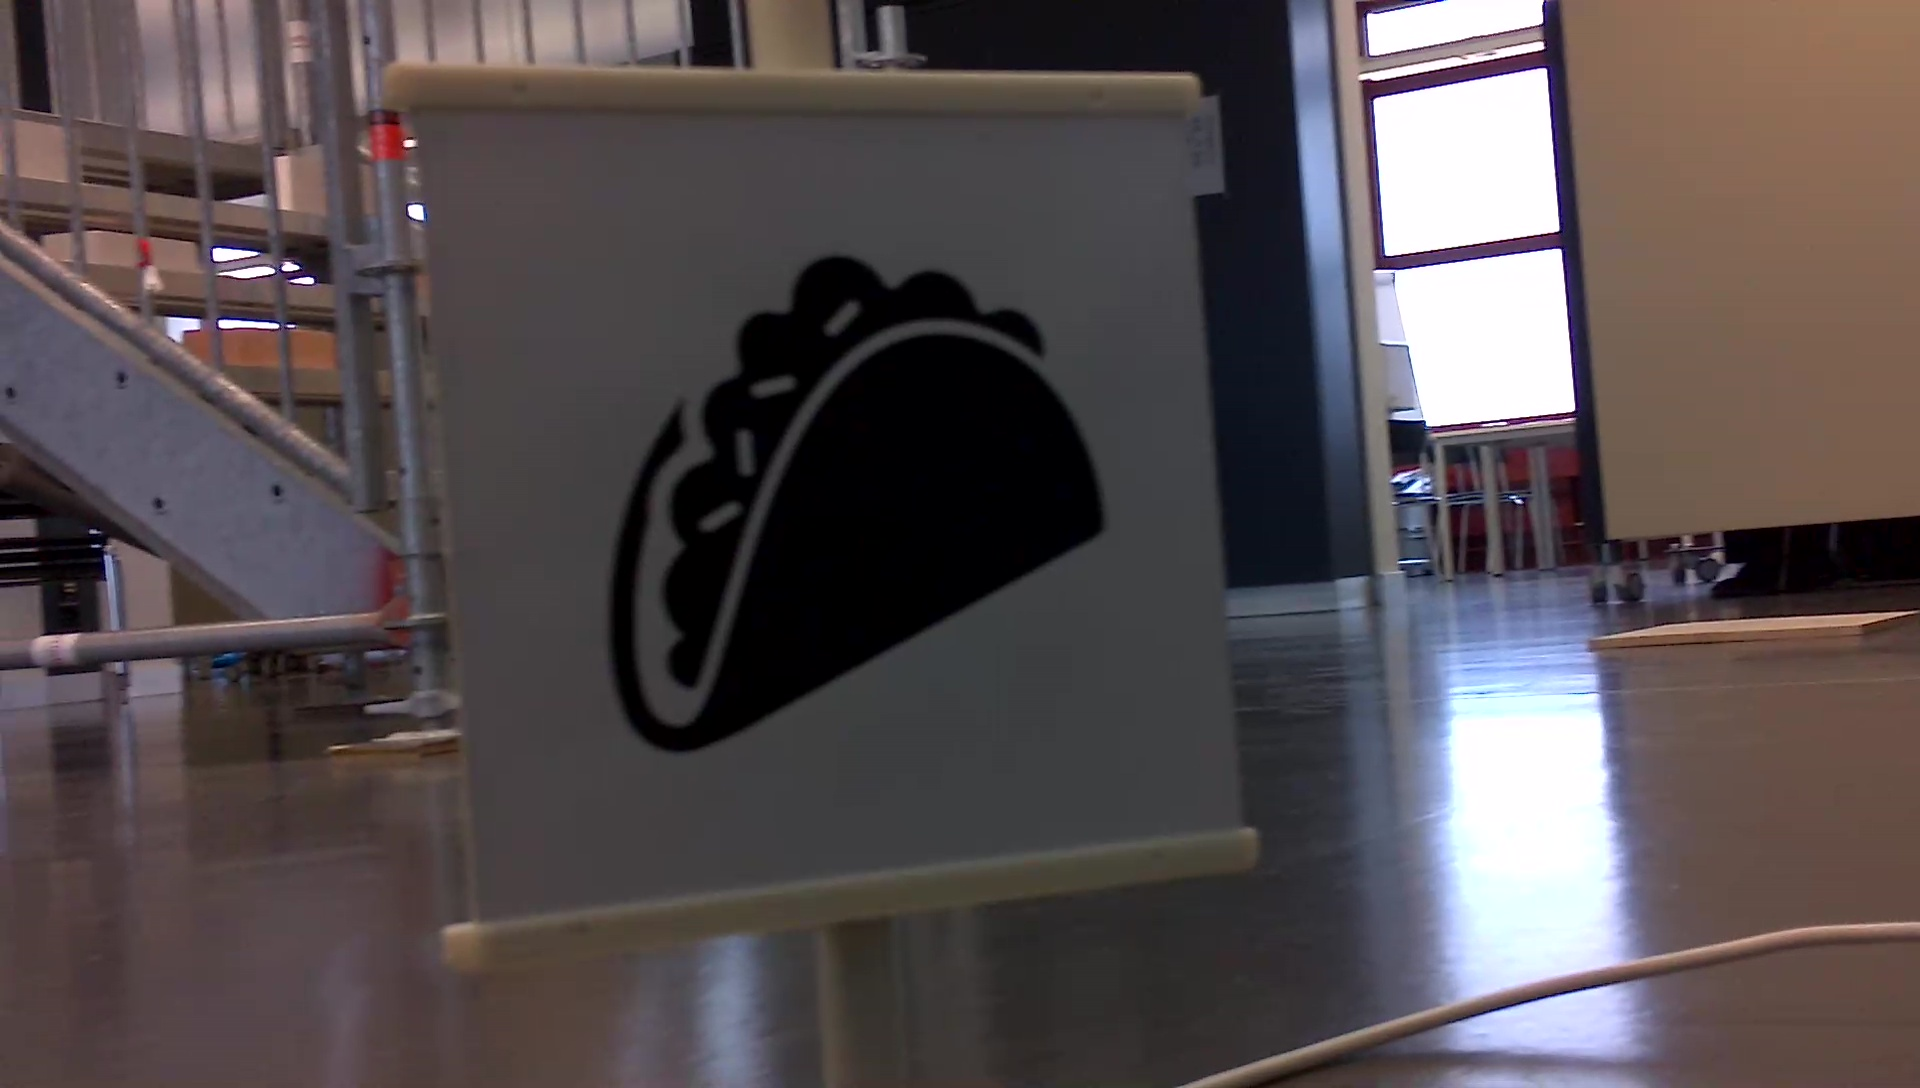taco: (574, 235, 1133, 775)
